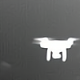plane: (31, 35, 80, 62)
